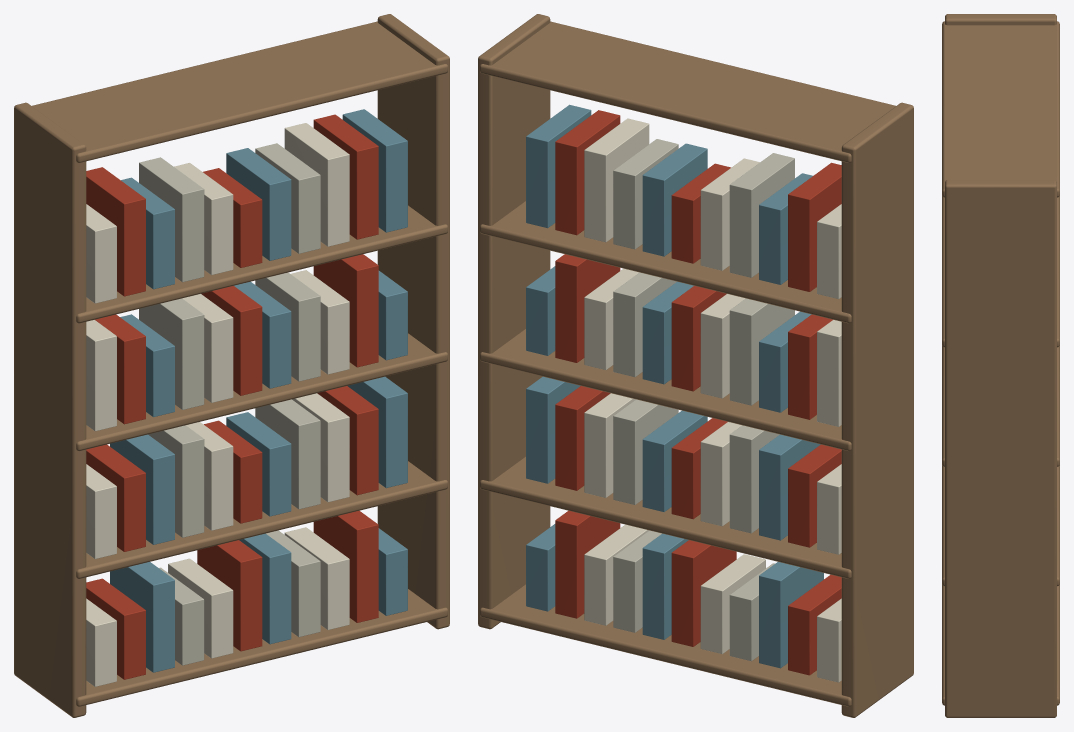
File: P_Bookshelf.fbx
3 renders of one model, left to right at view 1: azimuth 30°, elevation 25°; view 2: azimuth 150°, elevation 25°; view 3: azimuth 270°, elevation 25°, orthographic. The views are drawn at different scales.
Visible parts, largest first — view 1: P_Bookshelf; view 2: P_Bookshelf; view 3: P_Bookshelf.
Boxes of the visible parts, box(x1,y1,x2,y2) form: P_Bookshelf: box(14, 14, 449, 717); P_Bookshelf: box(478, 14, 913, 717); P_Bookshelf: box(942, 14, 1059, 717).
Size of the model in its own units: 1.45 by 2.1 by 0.42.
